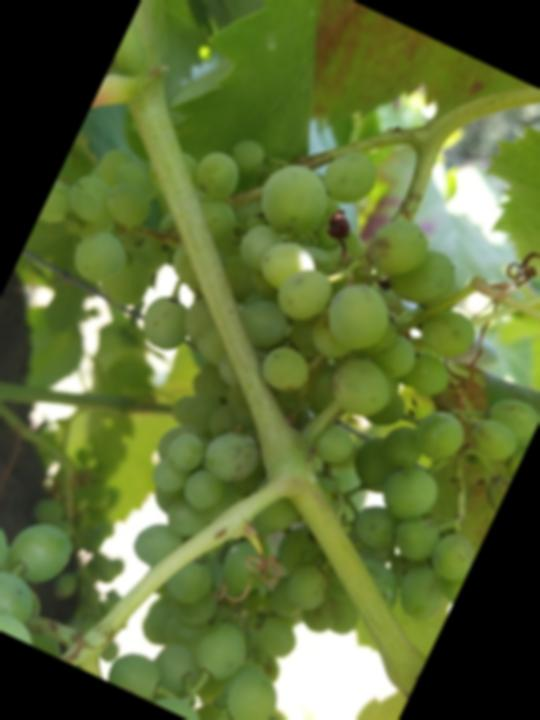grape: (0, 31, 540, 720)
